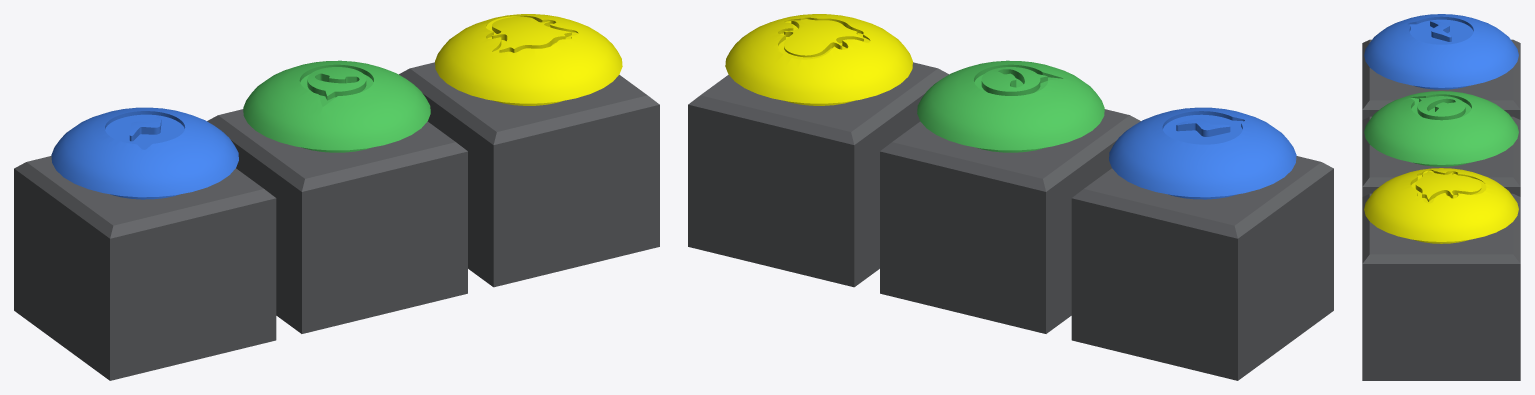
Rendered from buttons.fbx.
3 views of the same model, side by side, from view 1: azimuth 30°, elevation 25°; view 2: azimuth 150°, elevation 25°; view 3: azimuth 270°, elevation 25° (orthographic). The views are drawn at different scales.
Parts seen in each view (by area): view 1: Cube.006, Cube.007, Cube.008, Cylinder.004, Cylinder.005, Cylinder.006; view 2: Cube.006, Cube.008, Cube.007, Cylinder.004, Cylinder.005, Cylinder.006; view 3: Cube.008, Cylinder.006, Cylinder.005, Cylinder.004, Cube.007, Cube.006.
Part boxes in pixels (x1,y1,x2,y2): Cube.006: [14, 156, 276, 380]; Cube.007: [207, 109, 467, 333]; Cube.008: [399, 62, 659, 287]; Cylinder.004: [51, 107, 238, 199]; Cylinder.005: [243, 60, 430, 152]; Cylinder.006: [435, 14, 622, 105]; Cube.006: [1071, 156, 1333, 380]; Cube.008: [688, 62, 948, 287]; Cube.007: [880, 109, 1140, 333]; Cylinder.004: [1109, 107, 1296, 199]; Cylinder.005: [917, 60, 1104, 152]; Cylinder.006: [725, 14, 912, 105]; Cube.008: [1362, 193, 1520, 380]; Cylinder.006: [1364, 168, 1518, 243]; Cylinder.005: [1364, 91, 1518, 166]; Cylinder.004: [1364, 14, 1518, 89]; Cube.007: [1362, 116, 1520, 196]; Cube.006: [1362, 39, 1520, 119].
Size of the model in its own units: 118 by 41.2 by 35.54.
